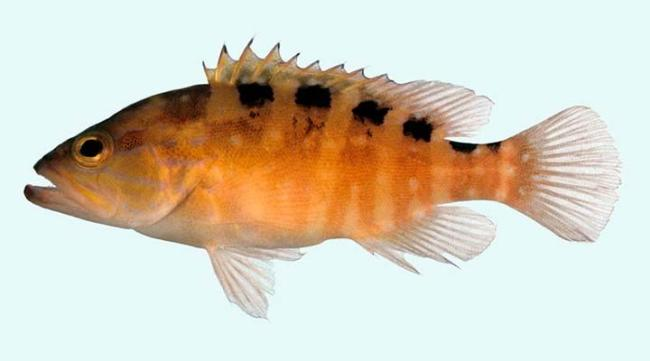fish: (24, 37, 620, 318)
